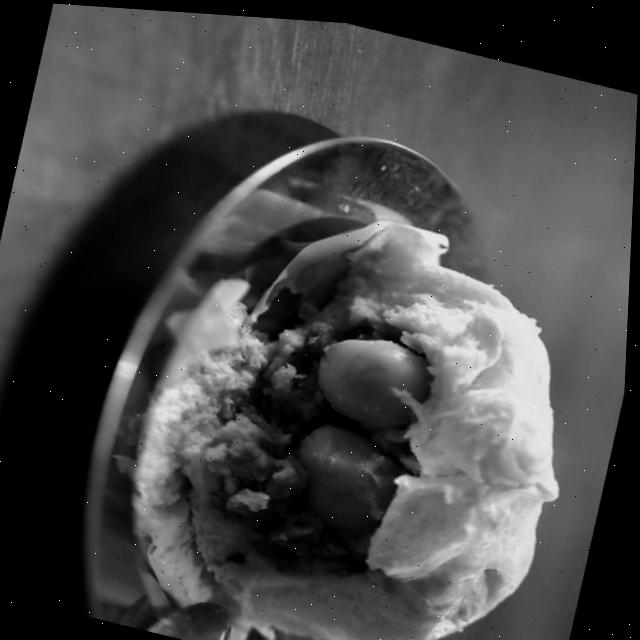带馅早点: (38, 80, 637, 640)
